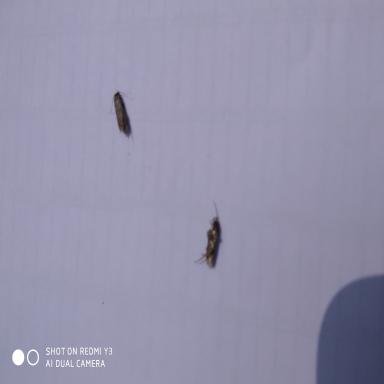pbw: (192, 198, 224, 270), (109, 88, 133, 140)
